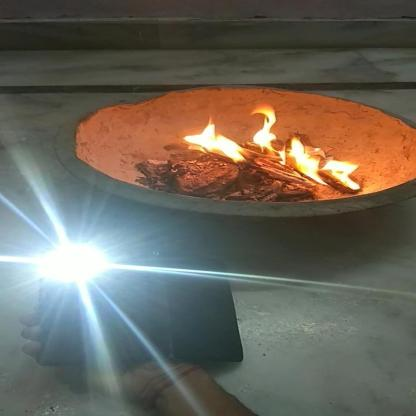fire: (188, 104, 364, 192)
